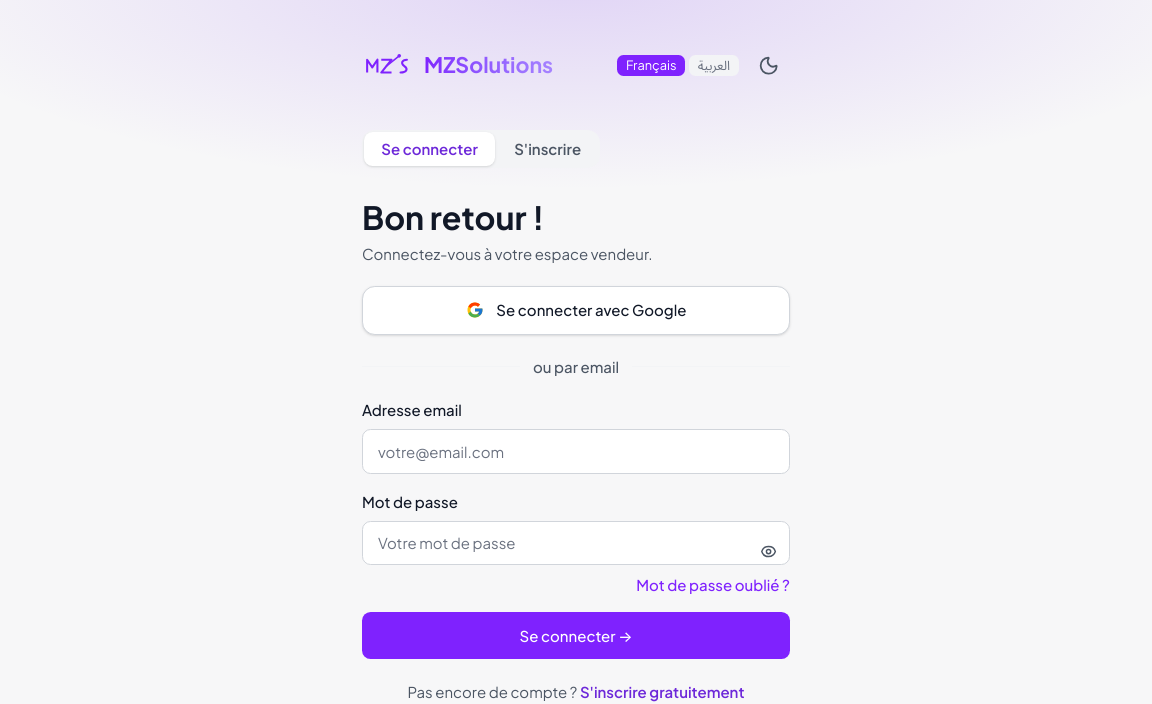
Auth page › auto-derives the store slug from the store name on register
Click the button "S'inscrire" at (548, 149), box [497,132,598,166]
(page scrolled)
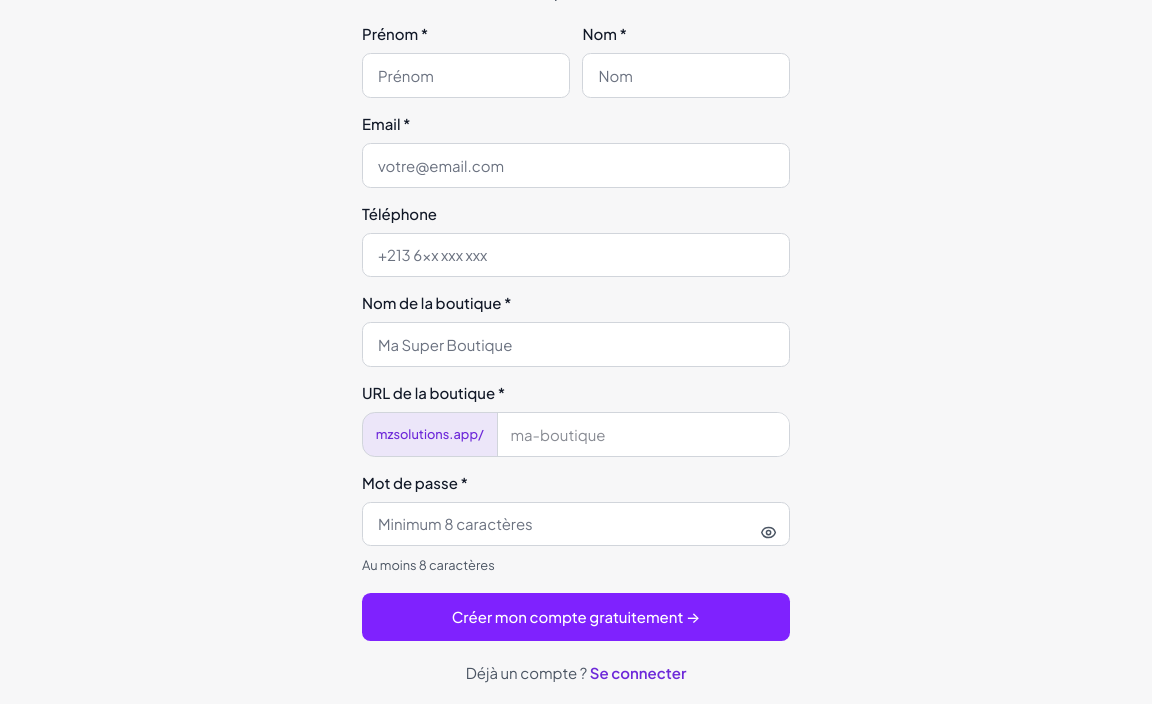
Type "Ma Boutique Test" into the field with placeholder "Ma Super Boutique" at (576, 345), box [362,322,790,367]
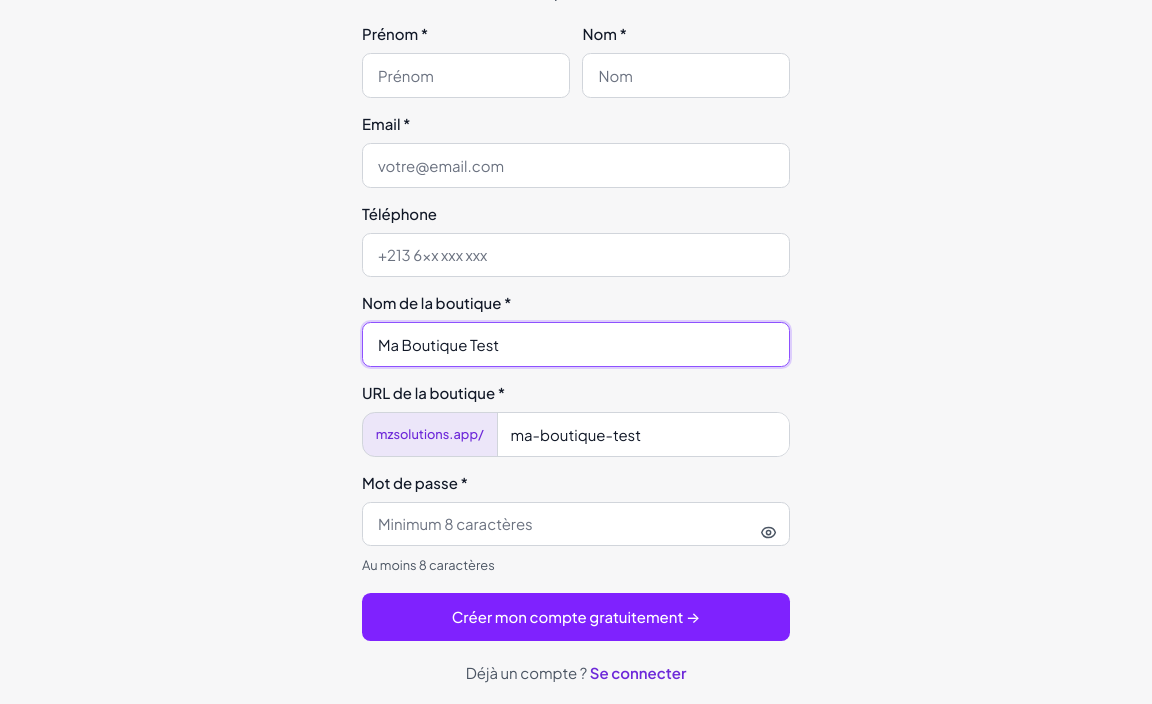
Result: the field with placeholder "ma-boutique" next to "mzsolutions.app/" holds "ma-boutique-test" at [498,413,789,456]
